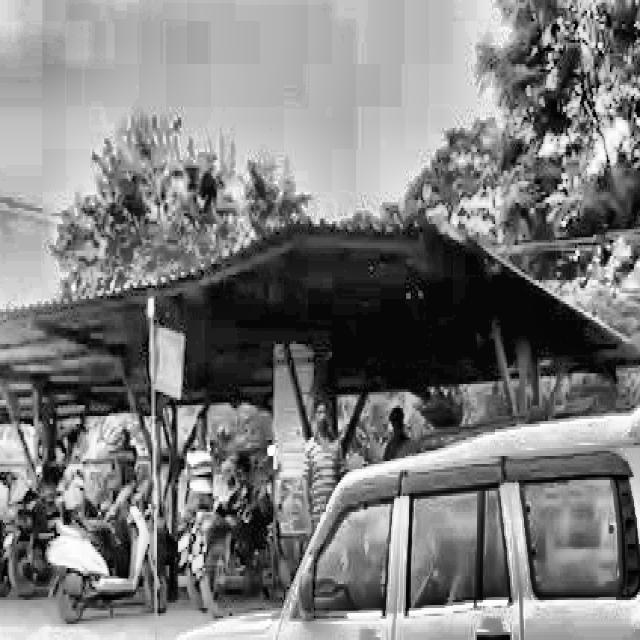light_vehicle: (146, 405, 640, 640)
